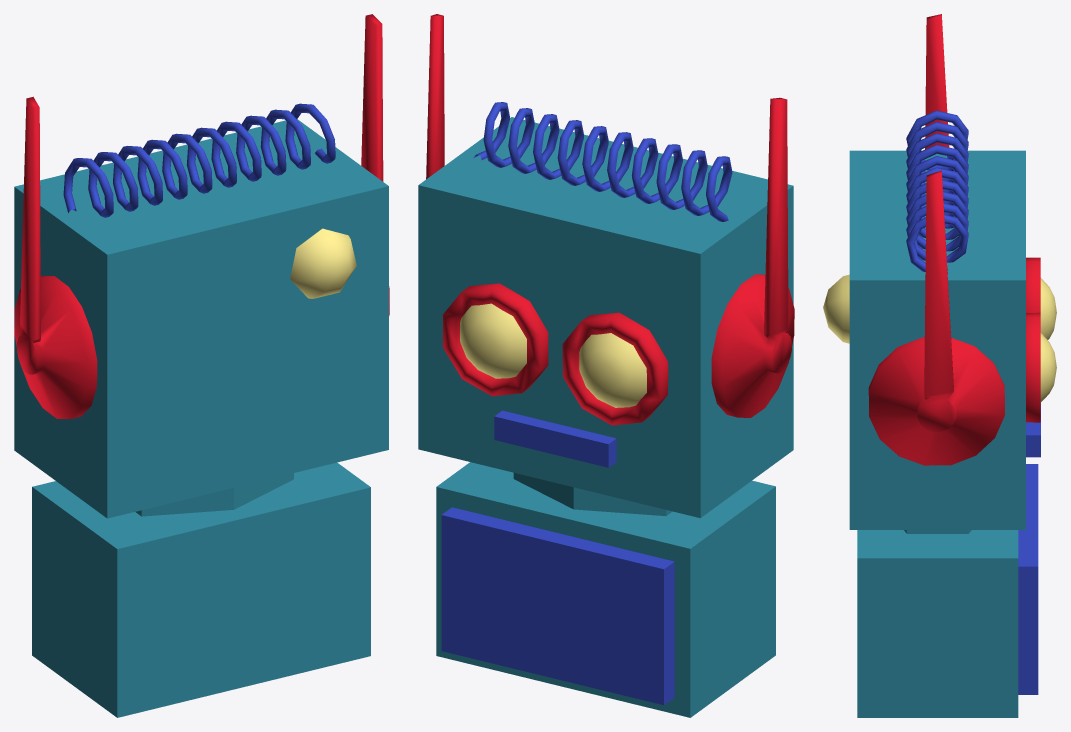
The model's file is robot_body_smooth.dae.
3 renders of one model, left to right at view 1: azimuth 30°, elevation 25°; view 2: azimuth 150°, elevation 25°; view 3: azimuth 270°, elevation 25°, orthographic. The views are drawn at different scales.
Visible parts, largest first — view 1: Head, Body, Ears, Spring, Lights, Neck; view 2: Head, Body, Ears, Spring, Circle, Sphere, Mouth, Neck; view 3: Head, Body, Ears, Spring, Circle, Sphere, Lights, Mouth.
Boxes of the visible parts, <box> form: Head: <box>14,119,388,518</box>; Body: <box>32,462,370,717</box>; Ears: <box>14,14,389,418</box>; Spring: <box>63,103,335,217</box>; Lights: <box>290,228,356,298</box>; Neck: <box>135,473,293,516</box>; Head: <box>418,117,793,518</box>; Body: <box>436,462,775,717</box>; Ears: <box>426,14,794,417</box>; Spring: <box>473,102,732,221</box>; Circle: <box>442,283,668,425</box>; Sphere: <box>460,303,646,407</box>; Mouth: <box>494,410,616,467</box>; Neck: <box>513,473,672,516</box>; Head: <box>849,150,1025,529</box>; Body: <box>857,464,1038,717</box>; Ears: <box>868,14,1004,465</box>; Spring: <box>906,110,968,273</box>; Circle: <box>1026,257,1040,422</box>; Sphere: <box>1040,278,1056,402</box>; Lights: <box>823,274,849,343</box>; Mouth: <box>1026,403,1040,457</box>.
Size of the model in its own units: 1.05 by 0.6438 by 1.72.
